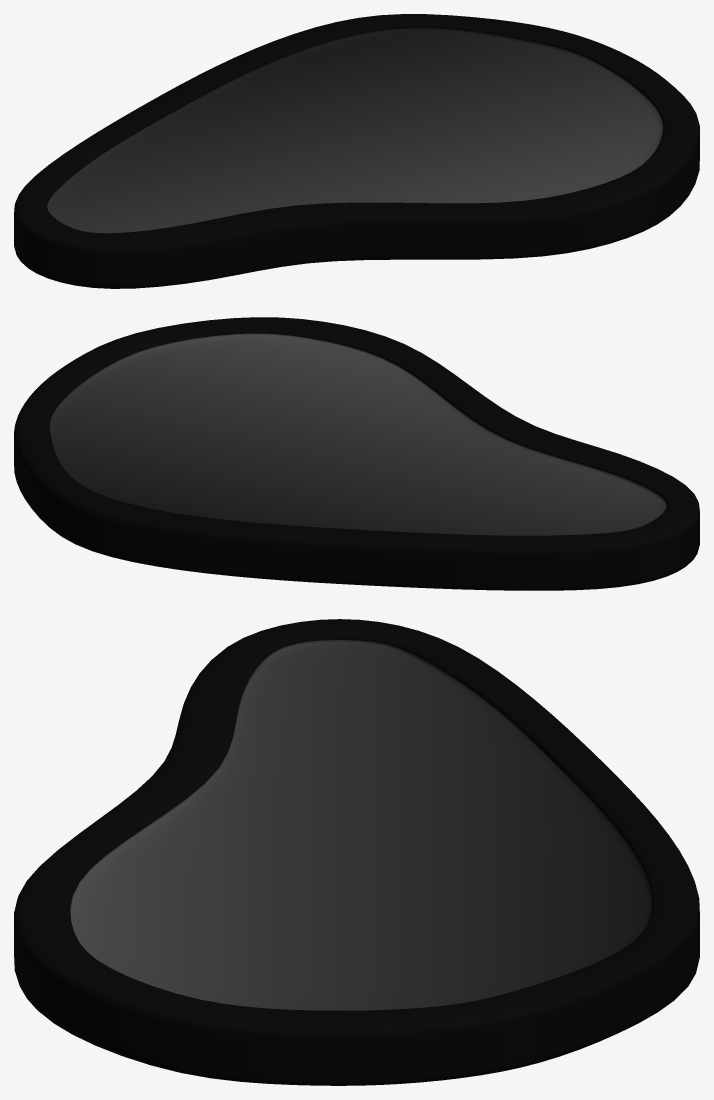
The model's file is HH_BurntSteak.fbx.
The picture shows the model from 3 angles, top to bottom: view 1: azimuth 30°, elevation 25°; view 2: azimuth 150°, elevation 25°; view 3: azimuth 270°, elevation 25°; orthographic projection. The views are drawn at different scales.
Visible parts, largest first — view 1: Top.002, Bottom.002; view 2: Top.002, Bottom.002; view 3: Top.002, Bottom.002.
Part boxes in pixels (left/top/right/bottom): Top.002: left=14, top=14, right=699, bottom=269; Bottom.002: left=14, top=147, right=699, bottom=288; Top.002: left=14, top=317, right=699, bottom=571; Bottom.002: left=14, top=452, right=699, bottom=590; Top.002: left=14, top=619, right=699, bottom=1059; Bottom.002: left=14, top=936, right=699, bottom=1085.
Bounding box in the file's own units: 100 × 6.95 × 70.
1 material, 1 textured.
